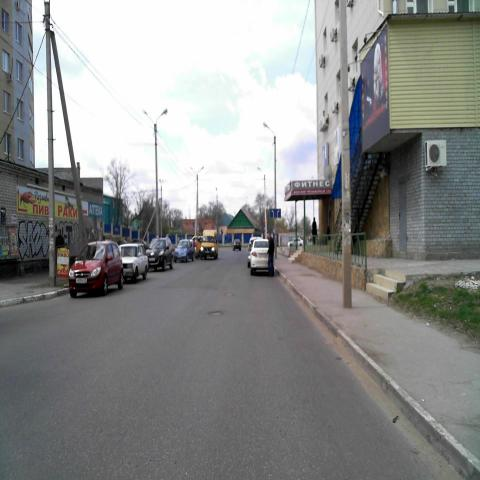5_15_2_2: (270, 208, 281, 218)
